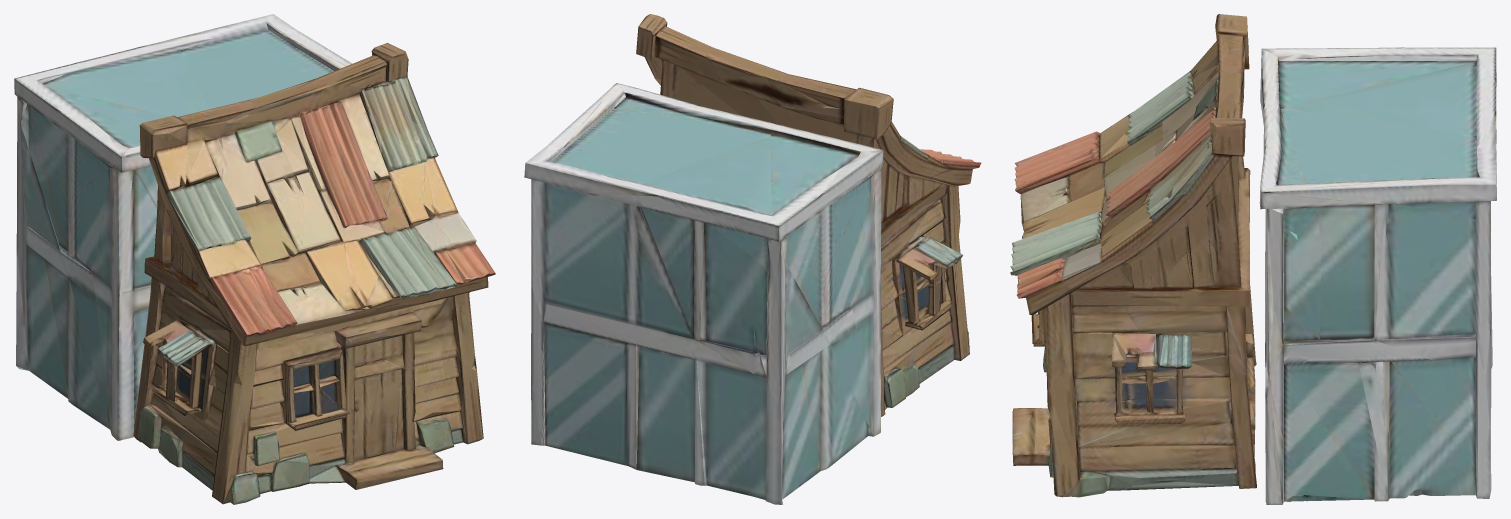
The model's file is shack-glass.glb.
3 renders of one model, left to right at view 1: azimuth 30°, elevation 25°; view 2: azimuth 150°, elevation 25°; view 3: azimuth 270°, elevation 25°, orthographic. The views are drawn at different scales.
Bounding box in the file's own units: 1.09 × 1.21 × 1.41.
1 material, 1 textured.
